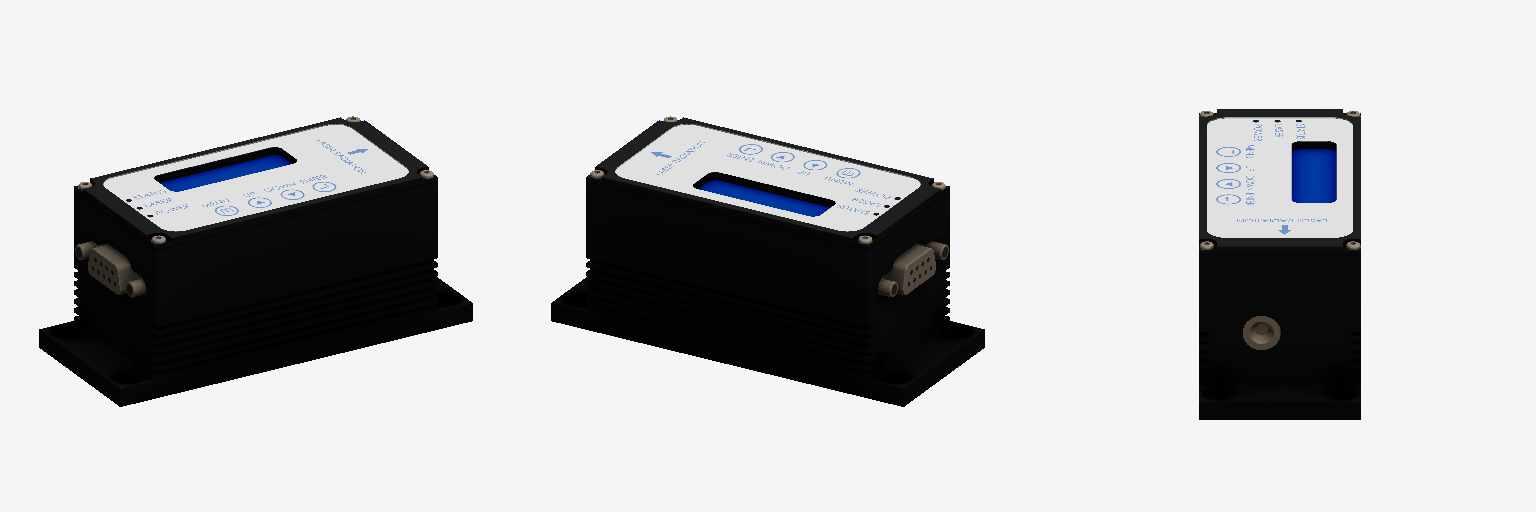
The picture shows the model from 3 angles: view 1: azimuth 30°, elevation 25°; view 2: azimuth 150°, elevation 25°; view 3: azimuth 270°, elevation 25°; orthographic projection.
Visible parts, largest first — view 1: polySurface1324; view 2: polySurface1324; view 3: polySurface1324.
Part boxes in pixels (left/top/right/bottom): polySurface1324: left=39, top=116, right=472, bottom=406; polySurface1324: left=551, top=116, right=984, bottom=406; polySurface1324: left=1199, top=109, right=1360, bottom=419.
Size of the model in its own units: 100 by 42.49 by 40.
1 materials, 1 textured.